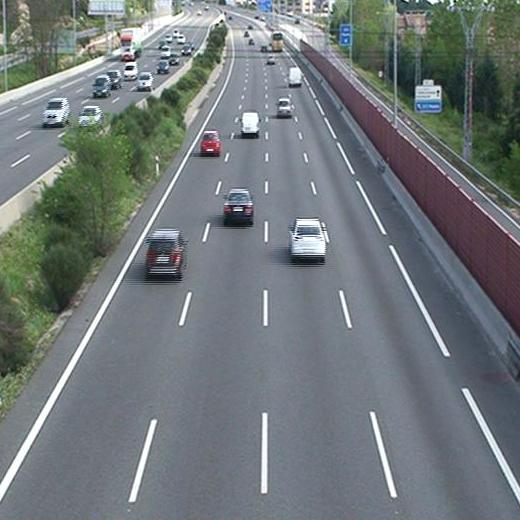bus: (271, 31, 284, 52)
car: (144, 229, 186, 280), (288, 217, 326, 261), (223, 187, 253, 223), (200, 129, 221, 155), (276, 98, 293, 116), (265, 55, 276, 65)
van: (239, 112, 260, 136), (287, 66, 303, 86)
